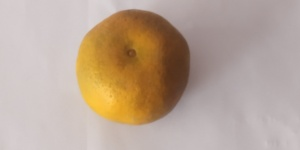BAD: (74, 8, 191, 127)
